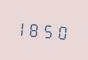eight: (30, 18, 41, 39)
five: (42, 19, 53, 40)
one: (18, 17, 29, 38)
zero: (54, 20, 65, 41)
